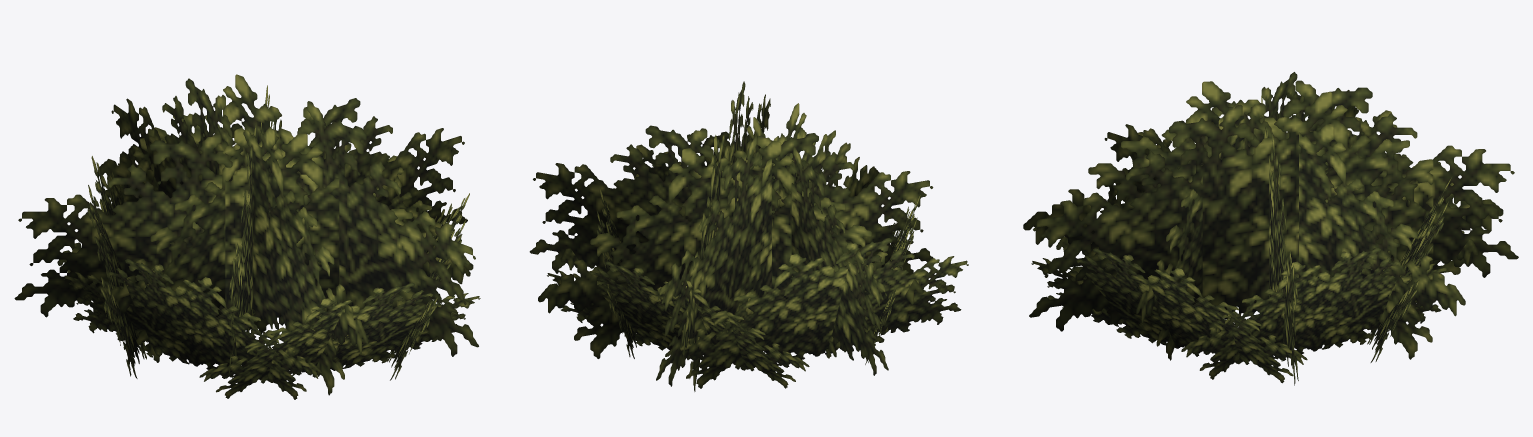
File: Arbusto-Verde-02-Largo.glb
3 renders of one model, left to right at view 1: azimuth 30°, elevation 25°; view 2: azimuth 150°, elevation 25°; view 3: azimuth 270°, elevation 25°, orthographic. The views are drawn at different scales.
Parts seen in each view (by area): view 1: Arbusto-Verde-02-Largo; view 2: Arbusto-Verde-02-Largo; view 3: Arbusto-Verde-02-Largo.
Boxes of the visible parts, x1=… form: Arbusto-Verde-02-Largo: x1=14, y1=74, x2=480, y2=399; Arbusto-Verde-02-Largo: x1=529, y1=81, x2=968, y2=391; Arbusto-Verde-02-Largo: x1=1023, y1=72, x2=1518, y2=385.
Size of what is drawn, in the model's own units: 2.27 by 1.14 by 2.3.
1 material, 1 textured.
